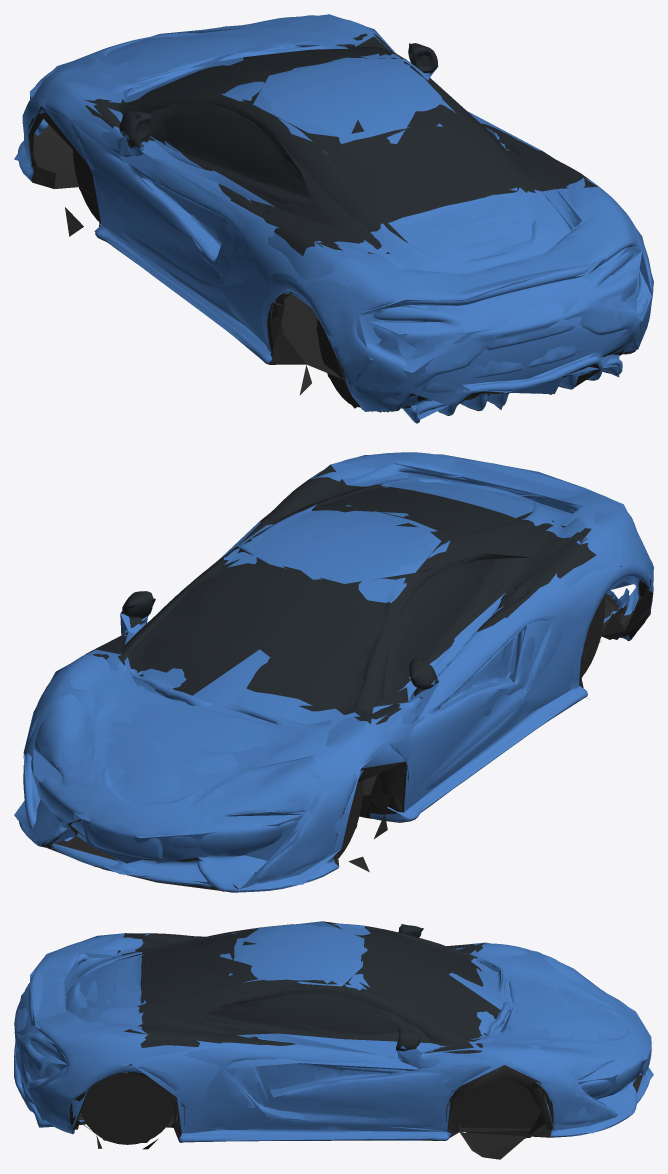
File: mclaren-570s-coupe.glb
3 renders of one model, top to bottom at view 1: azimuth 30°, elevation 25°; view 2: azimuth 150°, elevation 25°; view 3: azimuth 270°, elevation 25°, orthographic. The views are drawn at different scales.
Parts seen in each view (by area): view 1: body, far; view 2: body, far; view 3: body, far.
Part boxes in pixels (box(x1,y1,x2,y2)): body: box(18, 15, 653, 423); far: box(14, 14, 652, 419); body: box(19, 452, 653, 892); far: box(14, 454, 653, 888); body: box(14, 923, 651, 1157); far: box(15, 921, 653, 1159).
Size of the model in its own units: 2.04 by 1.25 by 4.59.
